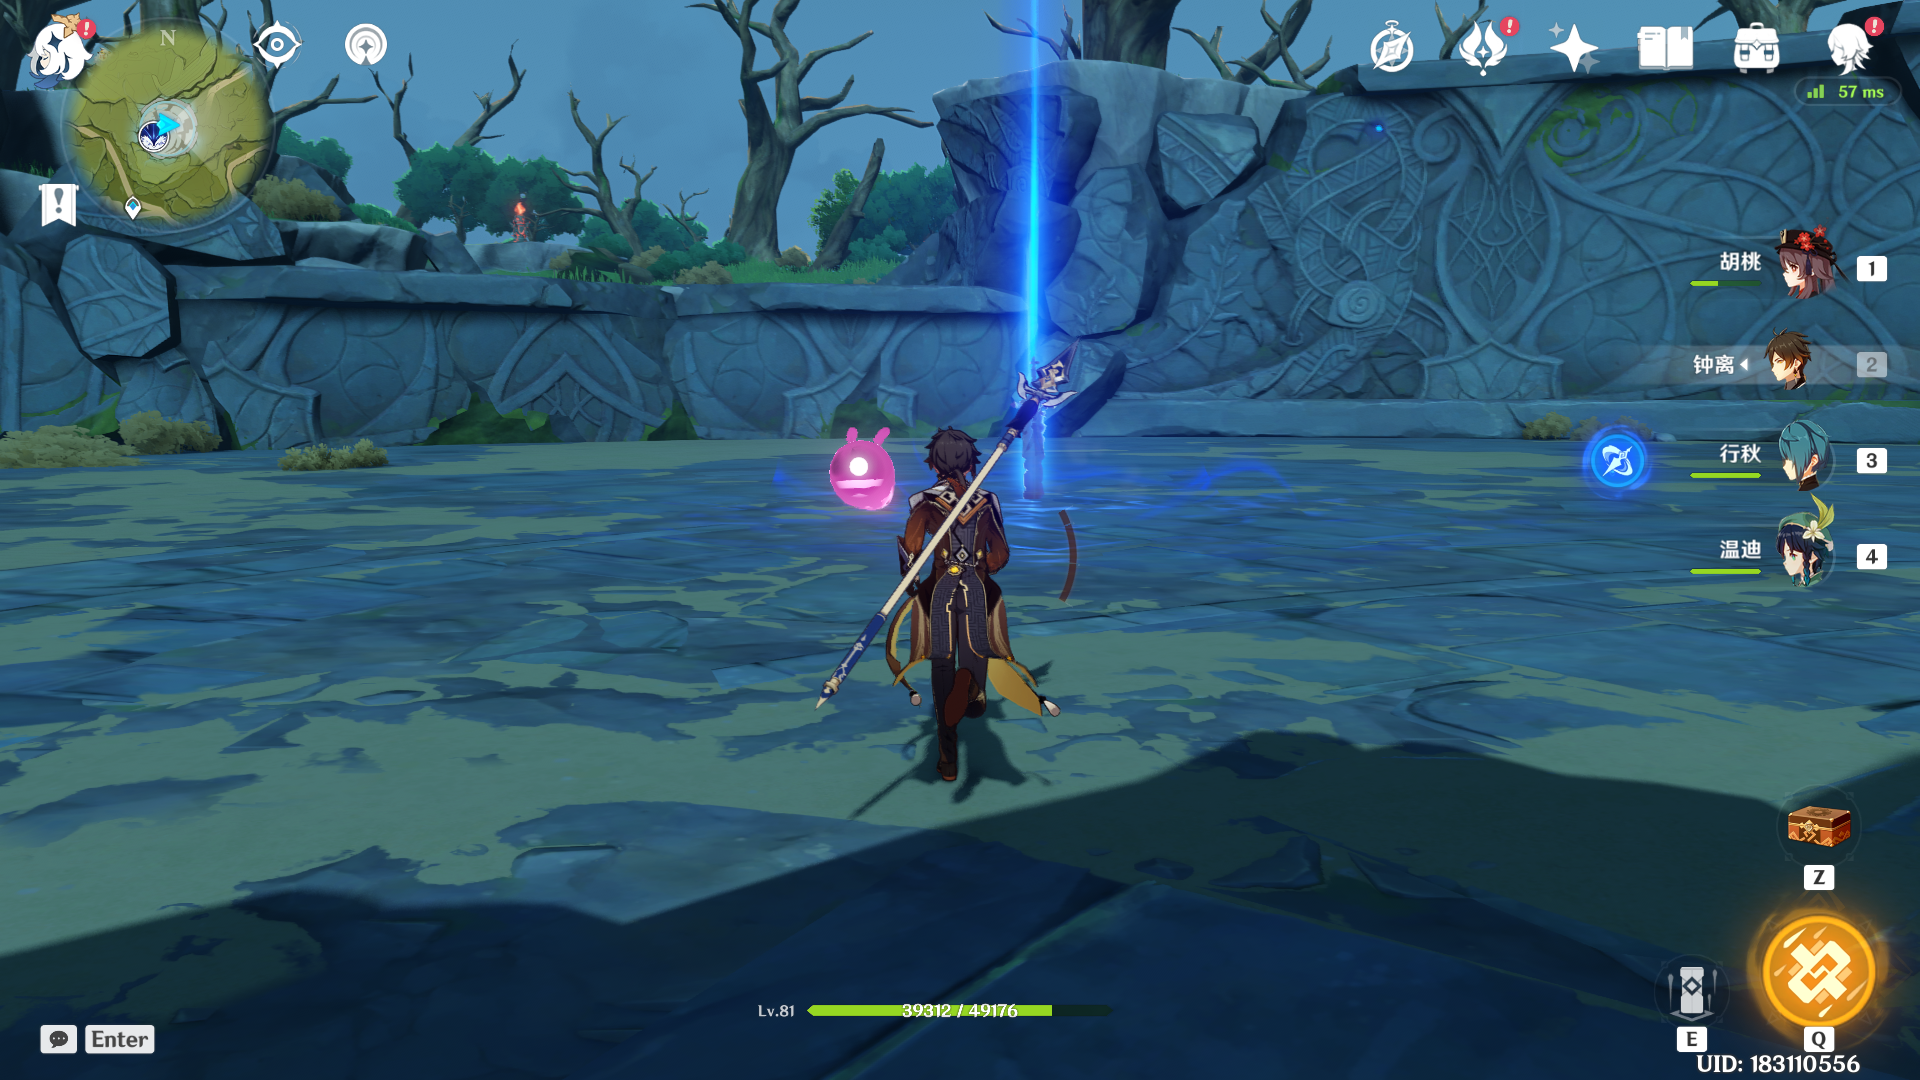character: (800, 386, 1100, 814)
